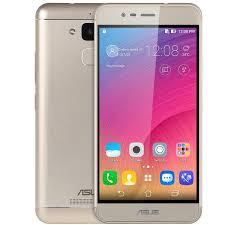asus: (91, 1, 204, 225), (30, 2, 98, 225)
